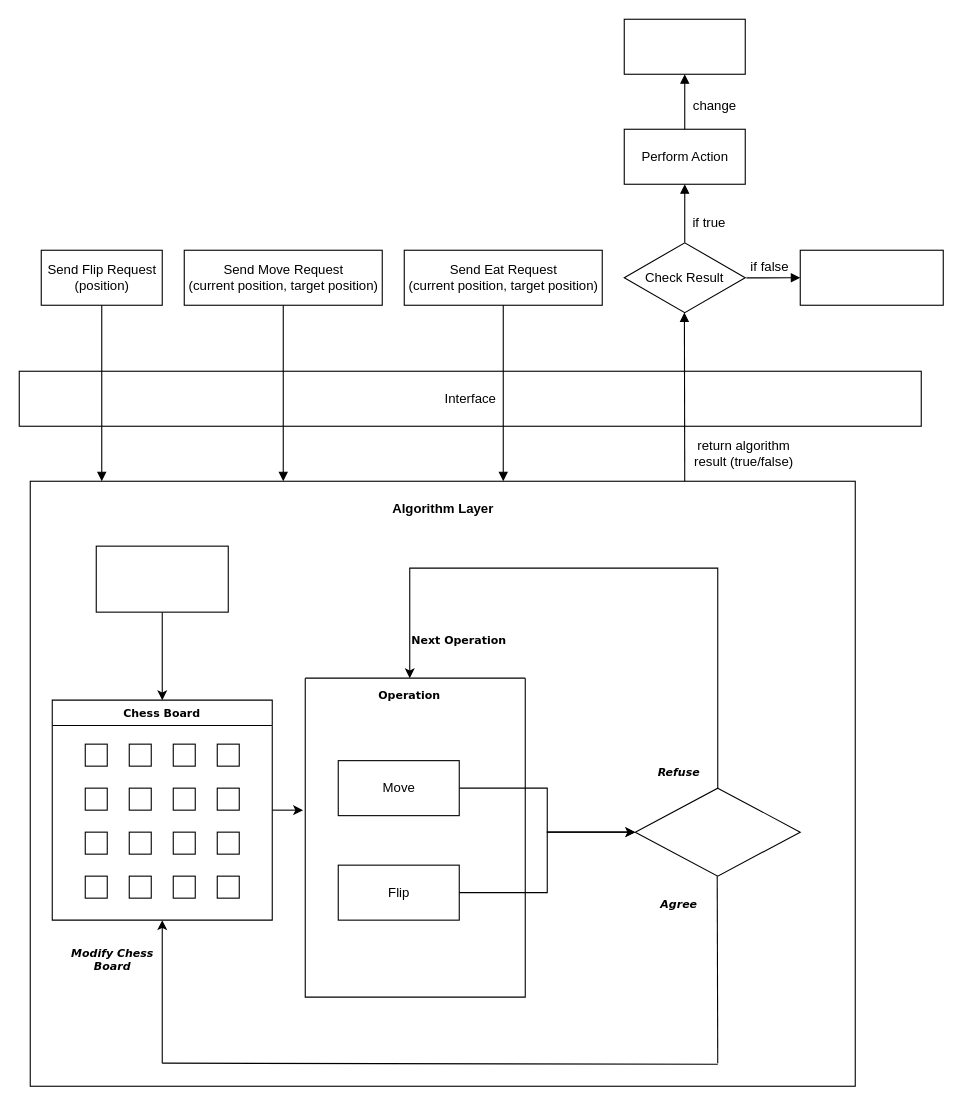
This 963x1106 diagram has some shape labels left out. Here are the shapes that lost their labels. From the top down, the box of each, then its label:
(623, 18, 745, 74): UI Display
(799, 249, 943, 305): UI Display "Not allowed" Message
(95, 545, 228, 612): Create Chess Board
(634, 787, 800, 876): Check
